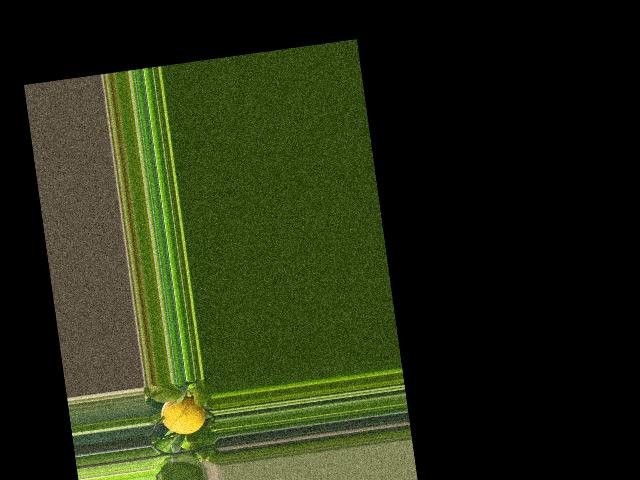lemon: (155, 389, 206, 440)
